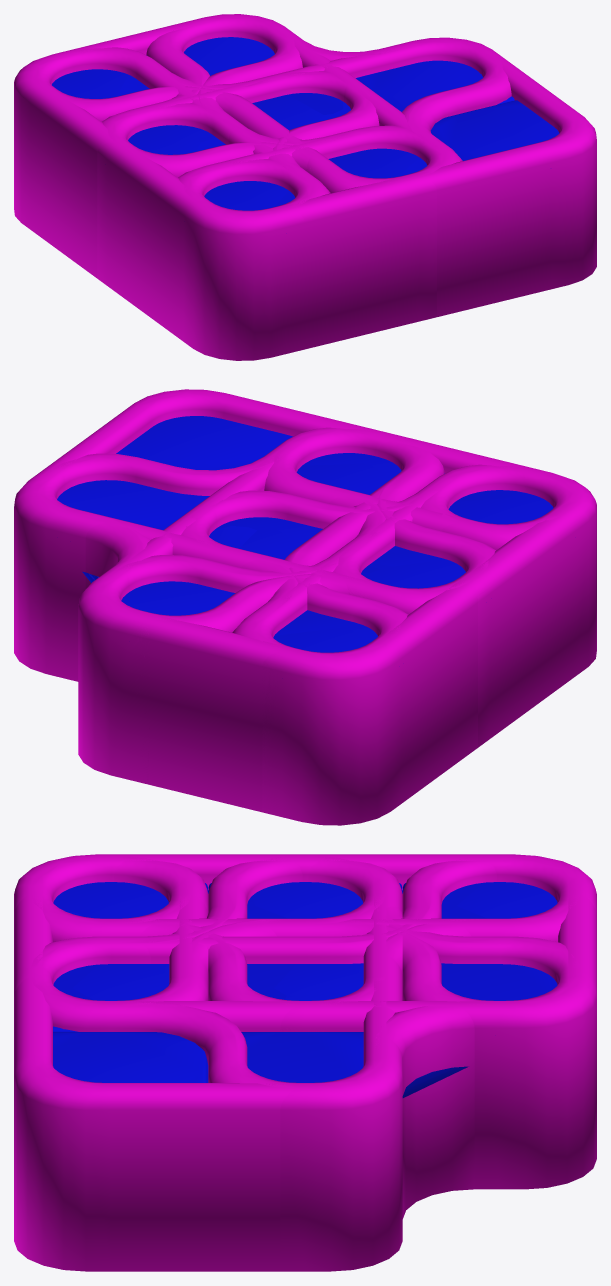
The picture shows the model from 3 angles, top to bottom: view 1: azimuth 30°, elevation 25°; view 2: azimuth 150°, elevation 25°; view 3: azimuth 270°, elevation 25°; orthographic projection. The views are drawn at different scales.
Visible parts, largest first — view 1: Vo.012, Vo.008, Vo.010, Vo.004, Vo.006, Vo.011, Vo.007, Vo.009, Vo.005, Vo.002, Vo.003, Vo.001; view 2: Vo.006, Vo.004, Vo.012, Vo.007, Vo.005, Vo.011, Vo.010, Vo.009, Vo.002, Vo.003, Vo.008, Vo.001; view 3: Vo.012, Vo.006, Vo.005, Vo.011, Vo.004, Vo.009, Vo.007, Vo.008, Vo.003, Vo.010, Vo.002, Vo.001.
Part boxes in pixels (left/top/right/bottom): Vo.012: left=97, top=40, right=596, bottom=360; Vo.008: left=109, top=72, right=452, bottom=360; Vo.010: left=21, top=48, right=457, bottom=278; Vo.004: left=14, top=47, right=322, bottom=256; Vo.006: left=34, top=15, right=330, bottom=213; Vo.011: left=102, top=14, right=511, bottom=194; Vo.007: left=14, top=16, right=444, bottom=193; Vo.009: left=111, top=14, right=379, bottom=229; Vo.005: left=108, top=39, right=504, bottom=182; Vo.002: left=181, top=127, right=446, bottom=311; Vo.003: left=110, top=103, right=451, bottom=233; Vo.001: left=178, top=159, right=314, bottom=247; Vo.006: left=78, top=465, right=576, bottom=821; Vo.004: left=232, top=467, right=595, bottom=825; Vo.012: left=31, top=389, right=596, bottom=747; Vo.007: left=98, top=429, right=444, bottom=822; Vo.005: left=14, top=428, right=487, bottom=681; Vo.011: left=14, top=430, right=495, bottom=783; Vo.010: left=181, top=427, right=489, bottom=810; Vo.009: left=85, top=464, right=588, bottom=632; Vo.002: left=264, top=428, right=595, bottom=590; Vo.003: left=264, top=429, right=593, bottom=614; Vo.008: left=187, top=428, right=596, bottom=610; Vo.001: left=420, top=466, right=585, bottom=546; Vo.012: left=14, top=854, right=402, bottom=1271; Vo.006: left=30, top=856, right=596, bottom=1189; Vo.005: left=30, top=856, right=402, bottom=1271; Vo.011: left=14, top=856, right=587, bottom=1218; Vo.004: left=30, top=854, right=596, bottom=942; Vo.009: left=14, top=856, right=585, bottom=1031; Vo.007: left=34, top=856, right=596, bottom=1006; Vo.008: left=14, top=856, right=386, bottom=1025; Vo.003: left=27, top=856, right=402, bottom=1006; Vo.010: left=14, top=856, right=580, bottom=1031; Vo.002: left=30, top=856, right=208, bottom=1006; Vo.001: left=30, top=856, right=208, bottom=924.
Size of the model in its own units: 150 by 50 by 150.
